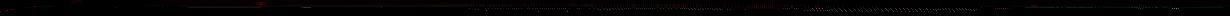Blue cone: (33, 6, 37, 7)
Yellow cone: (256, 2, 266, 6), (1029, 5, 1040, 7)
